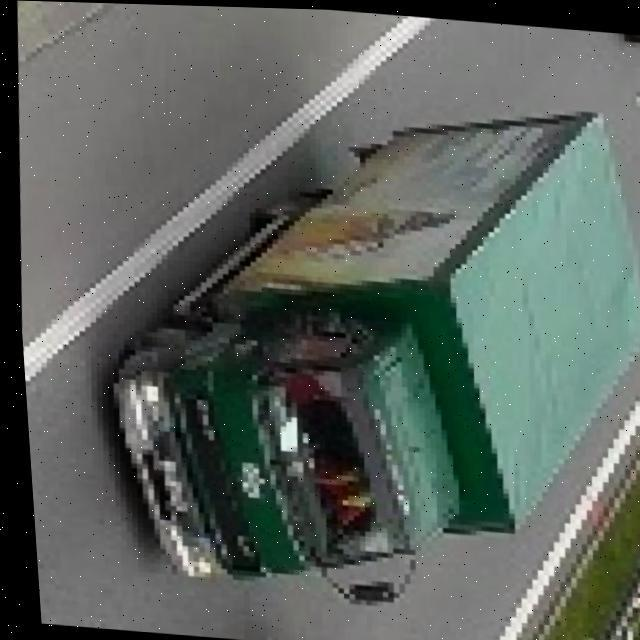truck: (75, 76, 640, 636)
